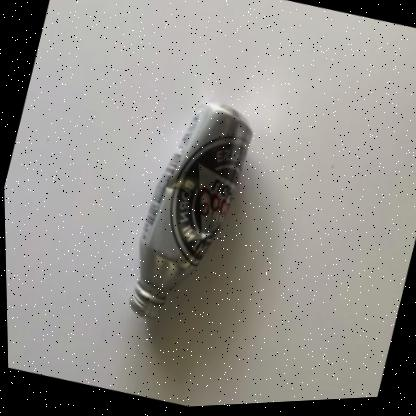Metal: (127, 105, 251, 317)
